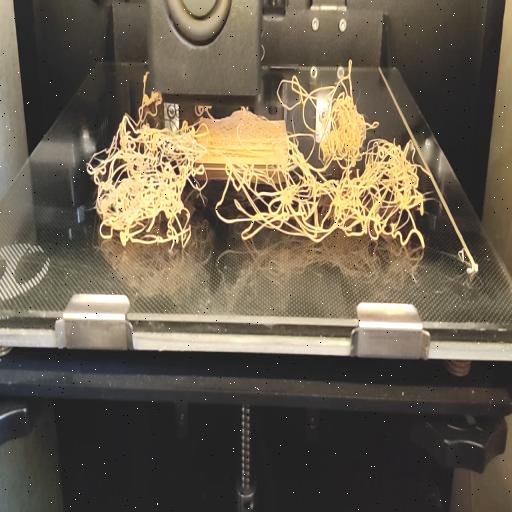spaghetti: (88, 100, 430, 262), (278, 56, 360, 104), (140, 68, 148, 94)
